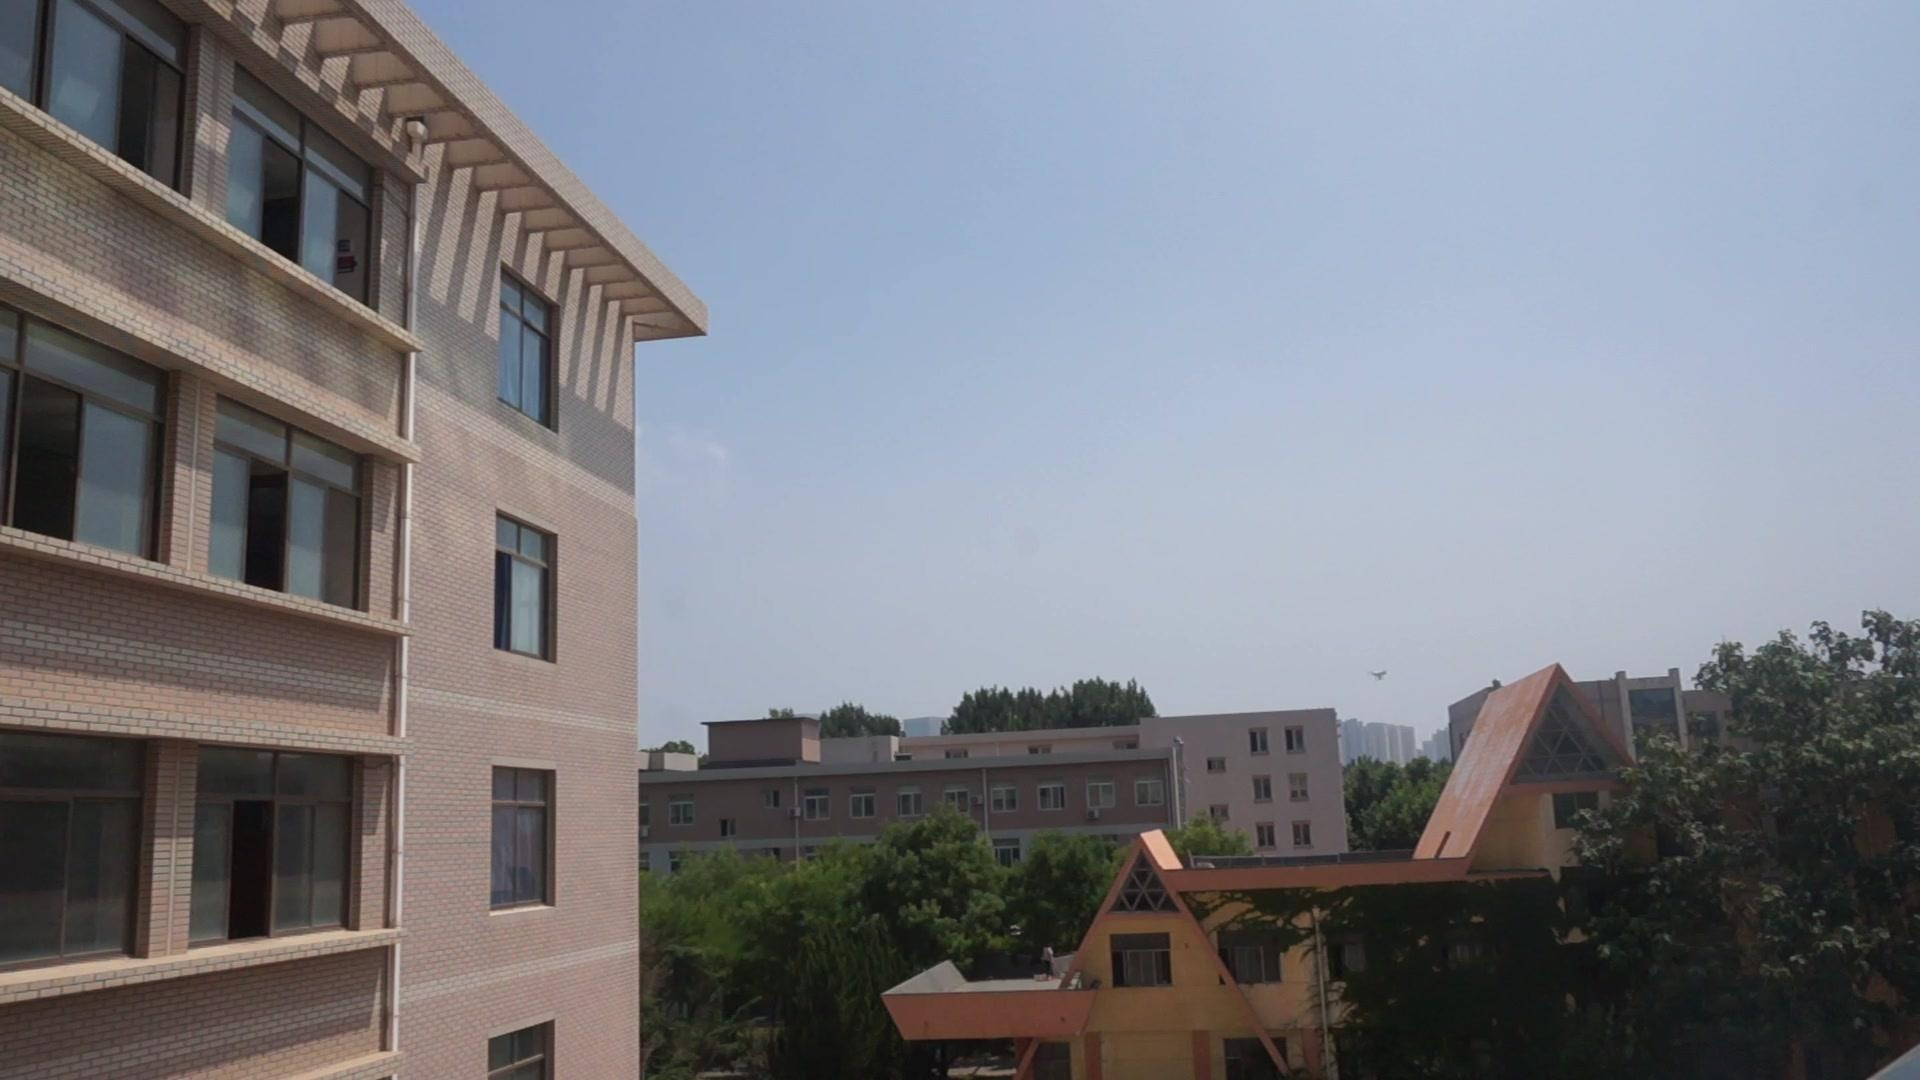UAV: (1367, 671, 1389, 680)
